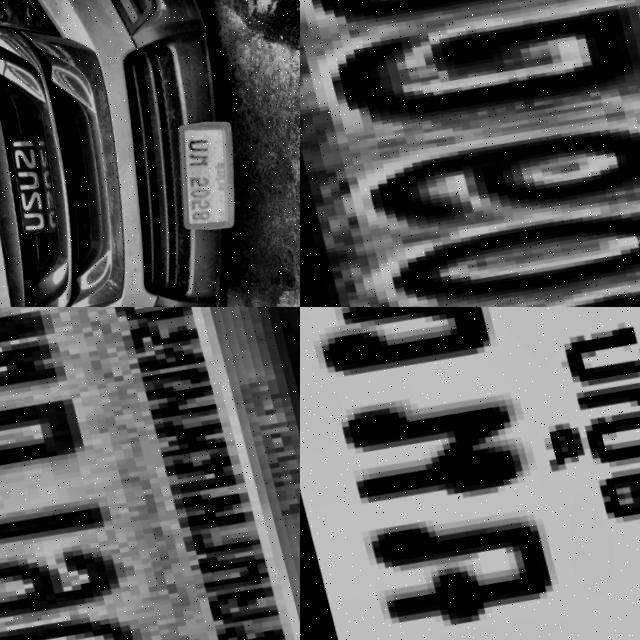license-plate: (300, 307, 640, 640), (300, 0, 640, 307), (0, 307, 300, 640), (154, 108, 257, 237)
